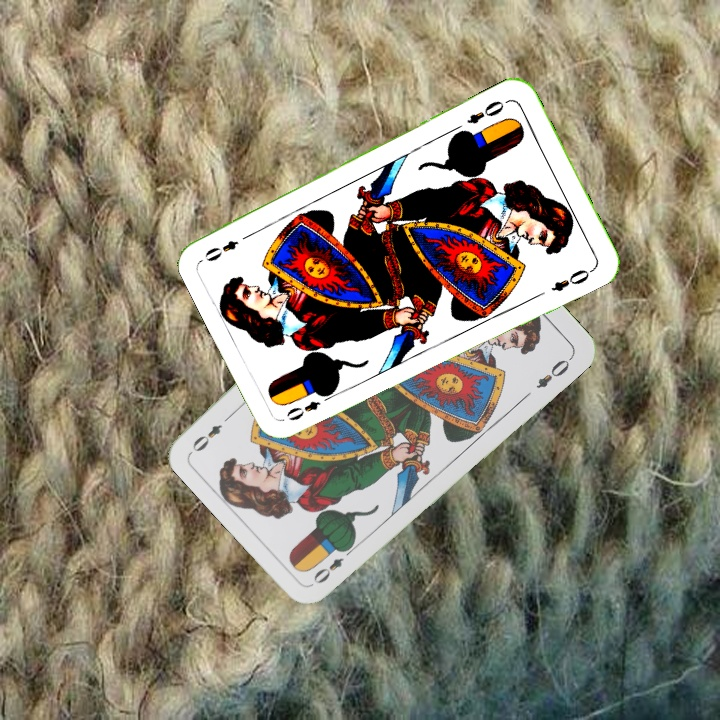EO: (309, 542, 357, 587), (282, 389, 336, 424), (462, 95, 512, 127)
